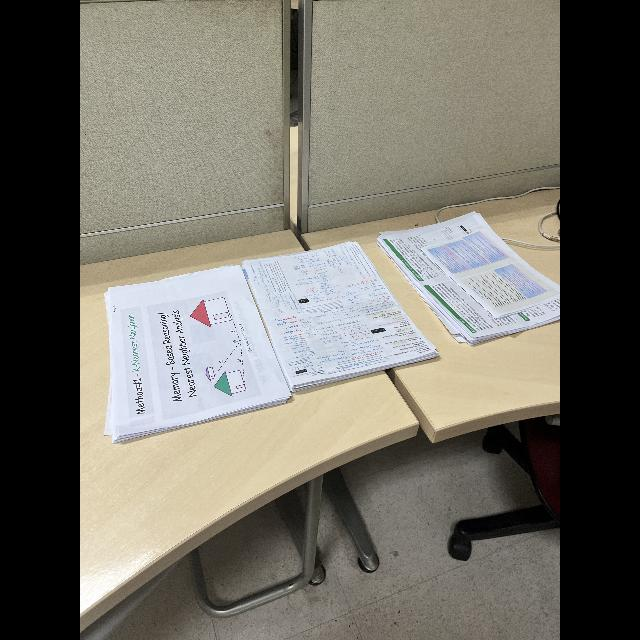reuseable_paper: (100, 237, 440, 449), (376, 210, 560, 346)
